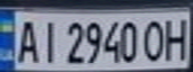0: (118, 17, 142, 63)
2: (63, 17, 84, 65)
4: (103, 17, 124, 64)
9: (81, 17, 106, 65)
A: (12, 16, 42, 64)
H: (163, 15, 193, 61)
I: (36, 17, 60, 64)
O: (139, 16, 169, 63)
